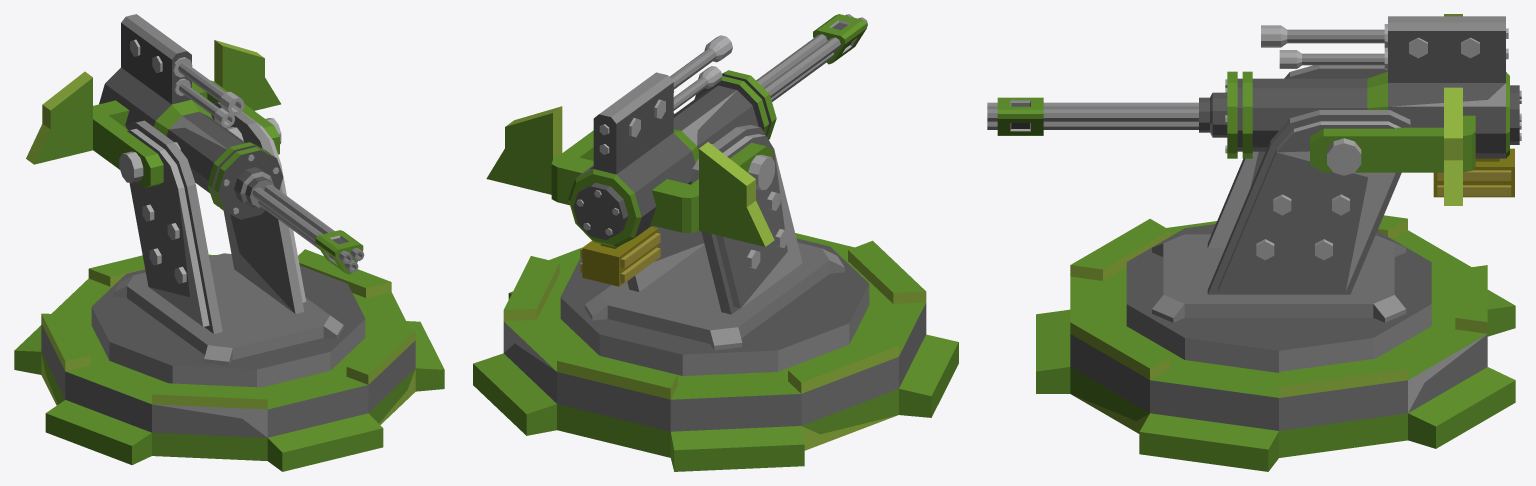
The model's file is tower_minigun_green_3.fbx.
3 renders of one model, left to right at view 1: azimuth 30°, elevation 25°; view 2: azimuth 150°, elevation 25°; view 3: azimuth 270°, elevation 25°, orthographic. The views are drawn at different scales.
Parts seen in each view (by area): view 1: top_minigun_green_3, tower_minigun_green_3; view 2: top_minigun_green_3, tower_minigun_green_3; view 3: top_minigun_green_3, tower_minigun_green_3.
Boxes of the visible parts, x1=… form: top_minigun_green_3: x1=26, y1=14, x2=365, y2=387; tower_minigun_green_3: x1=14, y1=249, x2=444, y2=471; top_minigun_green_3: x1=486, y1=14, x2=869, y2=375; tower_minigun_green_3: x1=473, y1=233, x2=958, y2=471; top_minigun_green_3: x1=987, y1=14, x2=1521, y2=372; tower_minigun_green_3: x1=1036, y1=215, x2=1515, y2=471.
Size of the model in its own units: 167 by 126 by 177.
